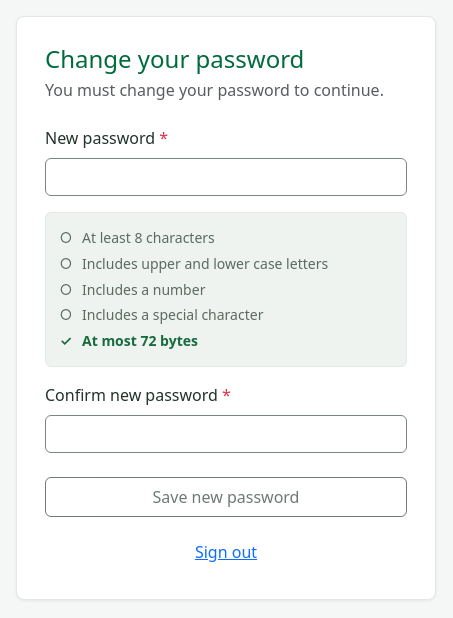
Test: C-02 Change Password gate › treats a trailing-space confirmation as matching (trimmed like the server)
Type "Password1!" into the password field labelled "New password *" at (226, 177), box [45, 158, 407, 196]
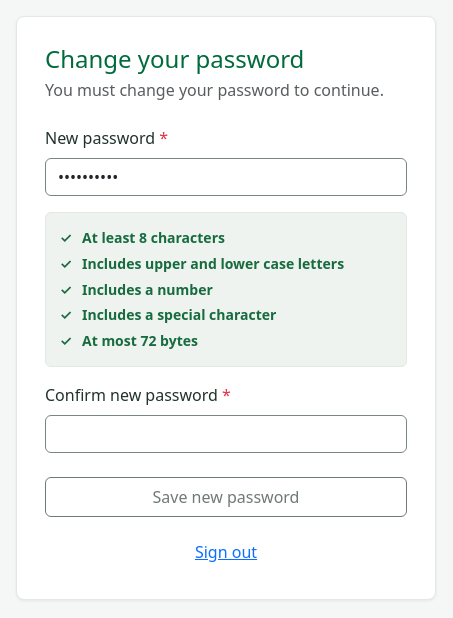
Type "Password1! " into the password field labelled "Confirm new password *" at (226, 434), box [45, 415, 407, 453]
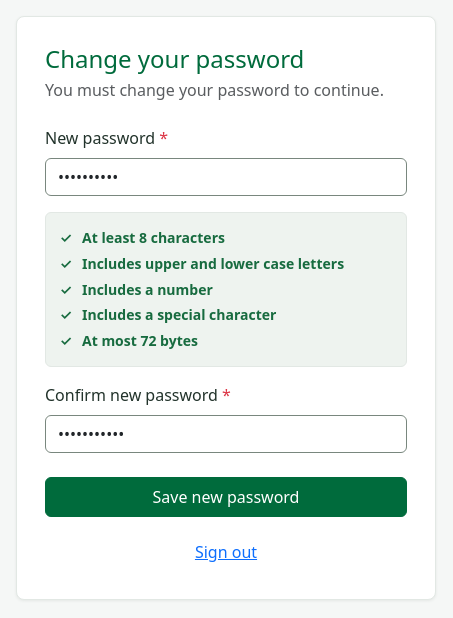
Expected: the button "Save new password" is enabled, [45, 477, 407, 517]
